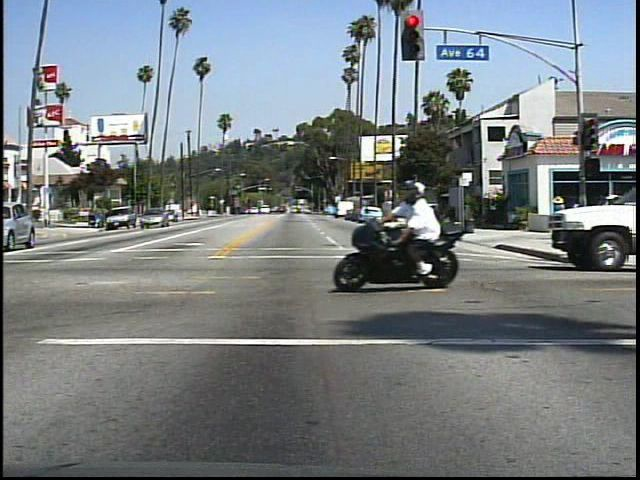person: (388, 179, 457, 284), (549, 192, 575, 228)
